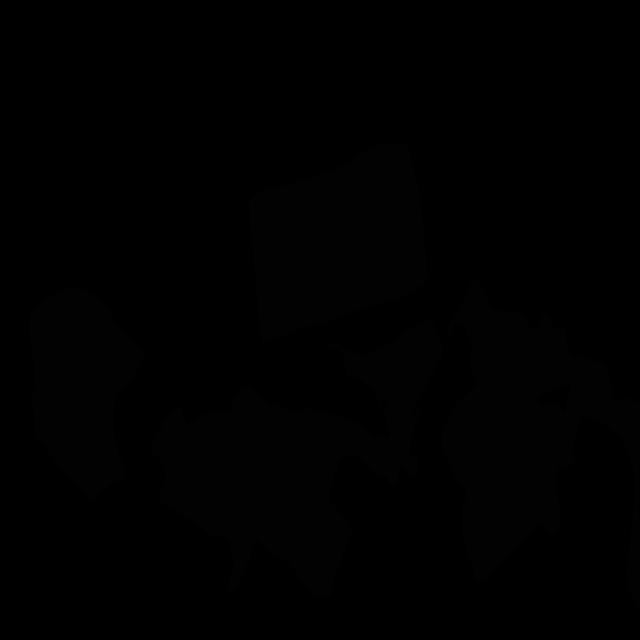cardboard: (446, 279, 640, 611), (151, 385, 352, 596), (249, 143, 428, 343), (440, 359, 567, 583), (29, 288, 145, 500), (327, 319, 444, 416), (284, 407, 421, 486), (542, 500, 562, 537)
